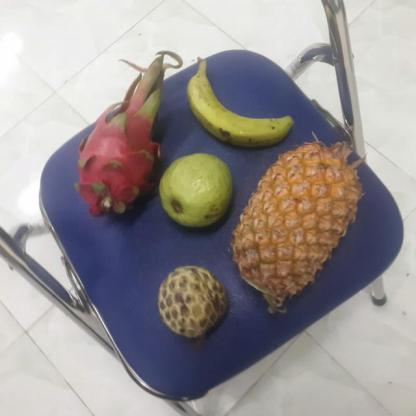annona: (158, 266, 234, 340)
banana: (190, 66, 296, 148)
guava: (158, 154, 237, 228)
pineapple: (234, 140, 368, 308)
pitaya: (74, 98, 166, 215)
